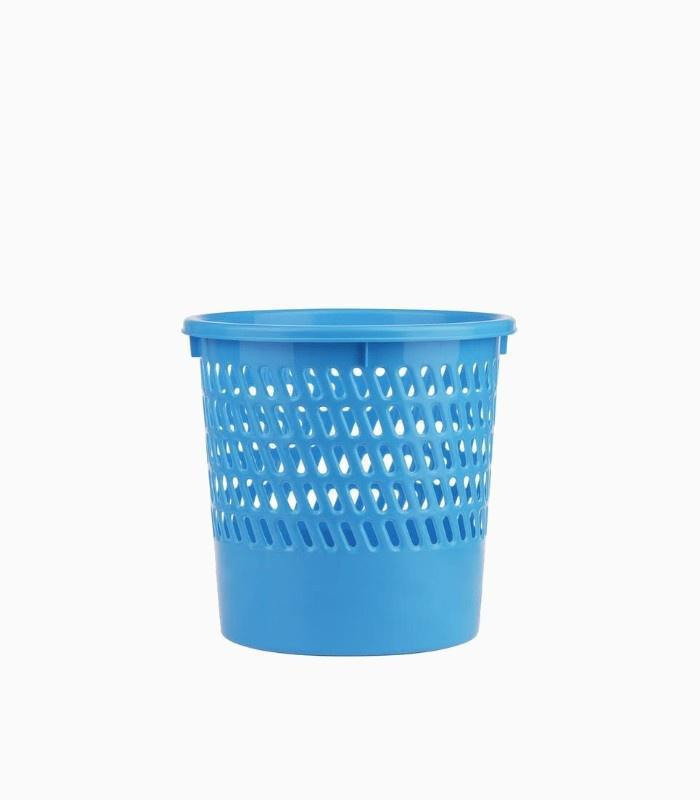Bote de Basura: (176, 300, 510, 645)
